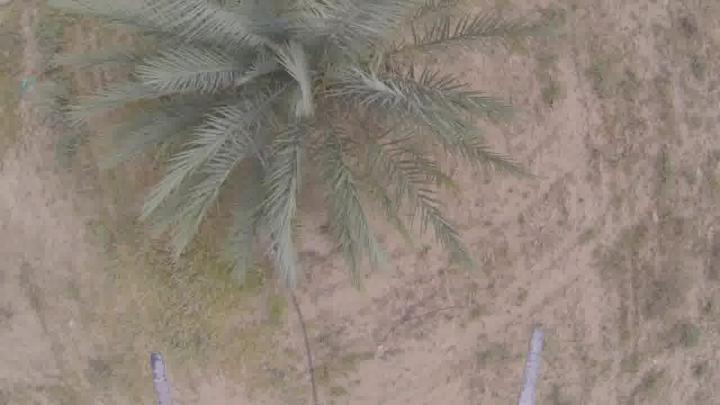Date-Palm-Crown: (176, 1, 422, 192)
